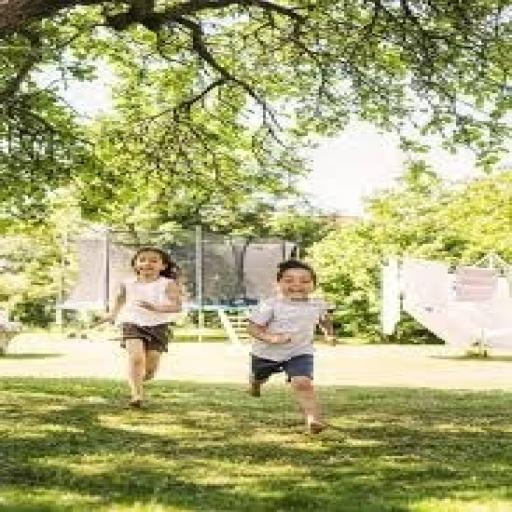running: (241, 258, 341, 436), (92, 246, 190, 411)
